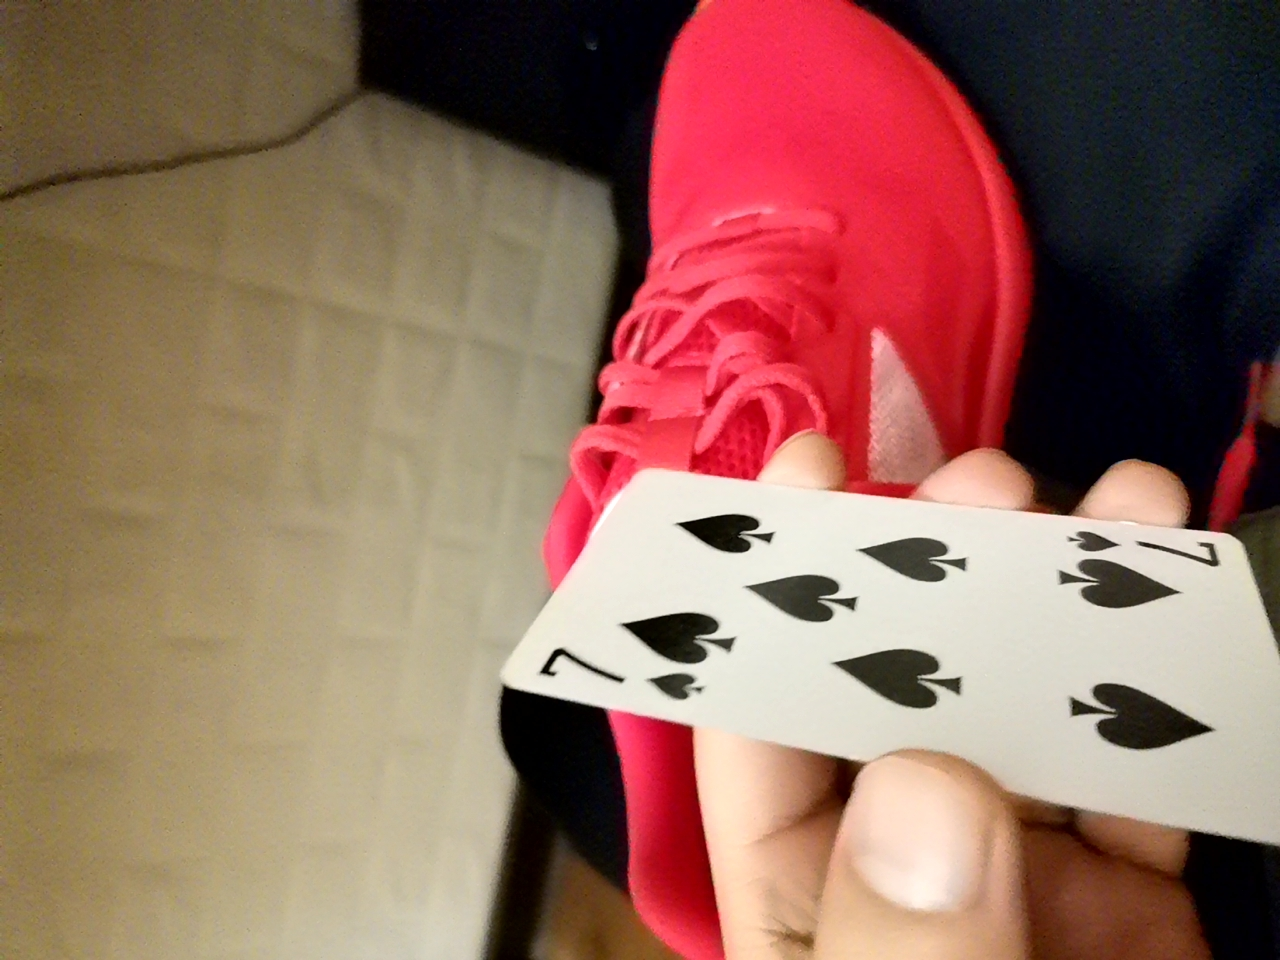ht 7: (513, 457, 1270, 854)
